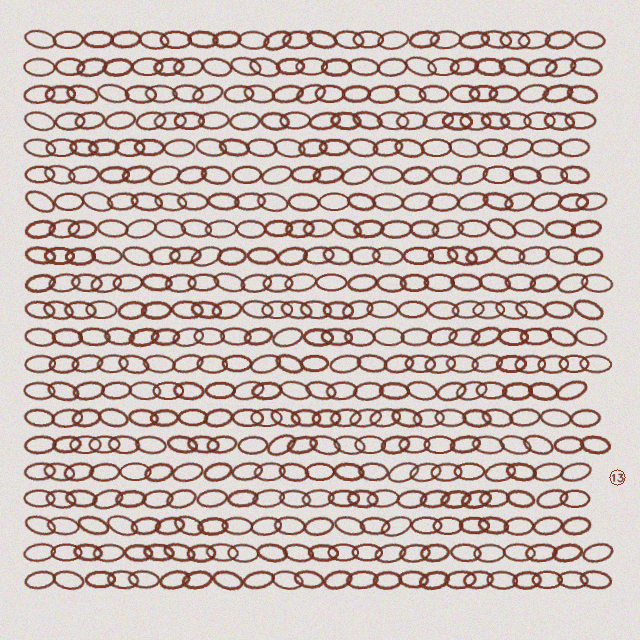chain: (21, 186, 59, 217), (263, 429, 300, 460), (553, 376, 590, 405), (104, 511, 141, 540), (484, 214, 520, 243), (570, 295, 606, 324), (188, 242, 225, 270), (385, 458, 422, 486), (378, 512, 415, 540), (544, 323, 580, 351), (402, 53, 439, 80), (454, 161, 491, 188), (79, 188, 116, 215), (260, 26, 295, 54), (272, 350, 307, 378), (293, 80, 329, 107), (329, 215, 365, 242), (444, 242, 480, 269), (211, 269, 247, 296), (468, 323, 504, 350), (520, 431, 556, 458), (22, 512, 58, 539), (75, 512, 111, 539), (171, 512, 207, 539), (247, 54, 283, 80), (190, 81, 226, 107), (147, 162, 183, 188), (259, 162, 295, 188), (493, 297, 529, 323), (45, 378, 81, 404), (307, 432, 343, 458), (497, 432, 533, 458), (558, 459, 594, 485), (543, 54, 578, 80), (22, 108, 57, 134), (500, 135, 535, 161), (339, 162, 374, 188), (120, 243, 155, 269), (555, 270, 590, 296), (270, 324, 305, 350), (248, 351, 283, 377), (434, 378, 469, 404), (268, 405, 303, 431), (90, 486, 125, 512), (332, 513, 367, 539), (210, 567, 245, 593), (22, 27, 58, 52), (95, 81, 131, 106), (455, 189, 491, 214), (170, 351, 206, 376), (230, 378, 266, 403), (277, 378, 313, 403), (534, 486, 570, 511), (161, 540, 197, 565), (304, 27, 339, 52), (228, 54, 263, 79), (516, 81, 551, 106), (540, 81, 575, 106), (350, 108, 385, 133), (42, 162, 77, 187), (480, 189, 515, 214), (502, 189, 537, 214), (529, 189, 564, 214), (123, 216, 158, 241), (463, 243, 498, 268), (340, 297, 375, 322), (425, 324, 460, 349), (303, 378, 338, 403), (404, 378, 439, 403), (454, 378, 489, 403), (96, 405, 131, 430), (389, 405, 424, 430), (164, 486, 199, 511), (580, 540, 615, 565), (157, 567, 192, 592), (64, 82, 100, 106), (513, 298, 549, 322), (201, 459, 235, 484), (321, 567, 355, 592), (74, 55, 109, 79), (270, 82, 305, 106), (393, 82, 428, 106), (307, 109, 342, 133), (22, 136, 57, 160), (272, 136, 307, 160), (392, 136, 427, 160), (447, 136, 482, 160), (255, 190, 290, 214), (41, 298, 76, 322), (279, 298, 314, 322), (126, 325, 161, 349), (116, 352, 151, 376), (328, 352, 363, 376), (348, 406, 383, 430), (480, 406, 515, 430), (332, 433, 367, 457), (170, 460, 205, 484), (408, 460, 443, 484), (531, 460, 566, 484), (373, 541, 408, 565), (51, 568, 86, 592), (241, 568, 276, 592), (270, 568, 305, 592), (200, 55, 234, 79), (242, 82, 276, 106), (565, 82, 599, 106), (175, 163, 209, 187), (199, 163, 233, 187), (23, 217, 57, 241), (569, 217, 603, 241), (275, 244, 309, 268), (23, 271, 57, 295), (89, 271, 123, 295), (171, 325, 205, 349), (285, 433, 319, 457), (42, 460, 76, 484), (142, 460, 176, 484), (277, 460, 311, 484), (483, 460, 517, 484), (418, 487, 452, 511), (459, 487, 493, 511), (153, 514, 187, 538), (302, 514, 336, 538), (281, 541, 315, 565), (23, 568, 57, 592), (417, 568, 451, 592), (129, 190, 164, 213), (400, 190, 435, 213), (574, 190, 609, 213), (544, 244, 579, 267), (47, 271, 82, 294), (283, 271, 318, 294), (477, 271, 512, 294), (240, 298, 275, 321), (70, 352, 105, 375), (71, 379, 106, 402), (251, 487, 286, 510), (22, 541, 57, 564), (578, 568, 613, 591), (345, 190, 378, 214), (504, 487, 537, 511), (332, 28, 366, 51), (407, 28, 441, 51), (479, 28, 513, 51), (497, 55, 531, 78), (73, 109, 107, 132), (103, 109, 137, 132), (134, 109, 168, 132), (421, 109, 455, 132), (194, 136, 228, 159), (217, 136, 251, 159), (346, 136, 380, 159), (371, 136, 405, 159), (120, 163, 154, 186), (47, 217, 81, 240), (153, 217, 187, 240), (179, 217, 213, 240), (23, 244, 57, 267), (321, 244, 355, 267), (493, 244, 527, 267), (517, 244, 551, 267), (210, 298, 244, 321), (355, 352, 389, 375), (382, 352, 416, 375), (470, 352, 504, 375), (368, 406, 402, 429), (165, 433, 199, 456), (205, 433, 239, 456), (448, 433, 482, 456), (578, 433, 612, 456), (62, 460, 96, 483), (230, 460, 264, 483), (504, 460, 538, 483), (195, 487, 229, 510), (476, 514, 510, 537), (531, 514, 565, 537), (255, 541, 289, 564), (550, 541, 584, 564), (180, 568, 214, 591), (292, 568, 326, 591), (22, 83, 57, 105), (153, 191, 188, 213), (543, 28, 576, 51), (448, 55, 481, 78), (242, 325, 275, 348), (70, 406, 103, 429), (202, 406, 235, 429), (379, 433, 412, 456), (560, 514, 593, 537), (137, 29, 171, 51), (376, 29, 410, 51), (457, 29, 491, 51), (517, 29, 551, 51), (347, 56, 381, 78), (366, 83, 400, 105), (542, 110, 576, 132), (311, 164, 345, 186), (429, 164, 463, 186), (508, 164, 542, 186), (431, 218, 465, 240), (239, 272, 273, 294), (580, 272, 614, 294), (23, 299, 57, 321), (189, 299, 223, 321), (23, 326, 57, 348), (142, 353, 176, 375), (423, 353, 457, 375), (526, 380, 560, 402), (50, 407, 84, 429), (471, 434, 505, 456), (44, 488, 78, 510), (278, 488, 312, 510), (395, 488, 429, 510), (46, 515, 80, 537), (129, 515, 163, 537), (249, 515, 283, 537), (573, 29, 606, 51), (101, 56, 134, 78), (376, 56, 409, 78), (525, 56, 558, 78), (479, 110, 512, 132), (400, 164, 433, 186), (572, 245, 605, 267), (346, 272, 379, 294), (528, 272, 561, 294), (116, 299, 149, 321), (542, 299, 575, 321), (352, 380, 385, 402), (23, 407, 56, 429), (127, 407, 160, 429), (539, 407, 572, 429), (134, 434, 167, 456), (141, 488, 174, 510), (439, 488, 472, 510), (398, 542, 431, 564), (569, 56, 603, 77), (376, 110, 410, 131), (557, 137, 591, 158), (176, 191, 210, 212), (206, 191, 240, 212), (233, 191, 267, 212), (168, 245, 202, 266), (449, 272, 483, 293), (170, 299, 204, 320), (299, 299, 333, 320), (451, 299, 485, 320), (77, 326, 111, 347), (574, 326, 608, 347), (128, 380, 162, 401), (508, 407, 542, 428), (23, 434, 57, 455), (107, 434, 141, 455), (186, 434, 220, 455), (23, 461, 57, 482), (64, 488, 98, 509), (301, 488, 335, 509), (366, 488, 400, 509), (205, 542, 239, 563), (502, 542, 536, 563), (524, 542, 558, 563), (106, 569, 140, 590), (127, 569, 161, 590), (345, 569, 379, 590), (443, 569, 477, 590), (259, 110, 291, 132), (68, 137, 100, 159), (461, 407, 493, 429), (109, 29, 142, 50), (186, 29, 219, 50), (281, 29, 314, 50), (429, 29, 462, 50), (152, 56, 185, 77), (172, 56, 205, 77), (473, 56, 506, 77), (171, 83, 204, 104), (197, 110, 230, 131), (329, 110, 362, 131), (395, 110, 428, 131), (87, 137, 120, 158), (245, 137, 278, 158), (67, 164, 100, 185), (106, 191, 139, 212), (96, 218, 129, 239), (302, 218, 335, 239), (352, 218, 385, 239), (512, 218, 545, 239), (90, 245, 123, 266), (148, 245, 181, 266), (302, 245, 335, 266), (348, 245, 381, 266), (70, 272, 103, 293), (140, 272, 173, 293), (103, 326, 136, 347), (219, 326, 252, 347), (372, 326, 405, 347), (96, 353, 129, 374), (100, 380, 133, 401), (172, 380, 205, 401), (250, 380, 283, 401), (325, 380, 358, 401), (329, 407, 362, 428), (253, 461, 286, 482), (332, 461, 365, 482), (357, 461, 390, 482), (226, 488, 259, 509), (346, 488, 379, 509), (478, 488, 511, 509), (273, 515, 306, 536), (142, 542, 175, 563), (449, 542, 482, 563), (397, 569, 430, 590), (462, 569, 495, 590), (144, 84, 178, 104), (153, 111, 187, 131), (371, 192, 405, 212), (204, 219, 238, 239), (379, 219, 413, 239), (63, 300, 97, 320), (445, 354, 479, 374), (92, 543, 126, 563), (211, 29, 243, 50), (297, 137, 329, 158), (559, 164, 591, 185), (284, 218, 316, 239), (51, 434, 83, 455), (72, 542, 104, 563), (419, 542, 451, 563), (237, 30, 270, 50), (23, 57, 56, 77), (124, 84, 157, 104), (228, 111, 261, 131), (459, 111, 492, 131), (499, 111, 532, 131), (163, 138, 196, 158), (371, 165, 404, 185), (287, 192, 320, 212), (427, 192, 460, 212), (371, 246, 404, 266), (164, 273, 197, 293), (375, 273, 408, 293), (427, 300, 460, 320), (472, 300, 505, 320), (320, 327, 353, 347), (343, 327, 376, 347), (448, 327, 481, 347), (579, 354, 612, 374), (23, 381, 56, 401), (412, 408, 445, 428), (434, 408, 467, 428), (569, 408, 602, 428), (88, 462, 121, 482), (430, 462, 463, 482), (114, 489, 147, 509), (196, 516, 229, 536), (473, 543, 506, 563), (556, 570, 589, 590), (499, 30, 531, 50), (320, 57, 352, 77), (44, 84, 76, 104), (223, 84, 255, 104), (418, 84, 450, 104), (488, 84, 520, 104), (54, 111, 86, 131), (441, 111, 473, 131), (530, 138, 562, 158), (98, 165, 130, 185), (536, 165, 568, 185), (557, 192, 589, 212), (235, 219, 267, 239), (544, 219, 576, 239), (64, 246, 96, 266), (216, 246, 248, 266), (246, 246, 278, 266), (112, 273, 144, 293), (262, 273, 294, 293), (140, 300, 172, 320), (322, 300, 354, 320), (51, 327, 83, 347), (302, 327, 334, 347), (400, 327, 432, 347), (24, 354, 56, 374), (48, 354, 80, 374), (196, 354, 228, 374), (514, 354, 546, 374), (537, 354, 569, 374), (378, 381, 410, 401), (501, 381, 533, 401), (290, 408, 322, 428), (237, 435, 269, 455), (553, 435, 585, 455), (221, 516, 253, 536), (359, 516, 391, 536), (503, 516, 535, 536), (227, 543, 259, 563), (307, 543, 339, 563), (486, 570, 518, 590), (511, 570, 543, 590), (159, 30, 192, 49), (131, 57, 164, 76), (295, 57, 328, 76), (427, 57, 460, 76), (523, 111, 556, 130), (564, 111, 597, 130), (45, 138, 78, 157), (457, 219, 490, 238), (187, 273, 220, 292), (315, 273, 348, 292), (85, 300, 118, 319), (366, 300, 399, 319), (519, 327, 552, 346), (475, 381, 508, 400), (231, 408, 264, 427), (250, 408, 283, 427), (69, 435, 102, 454), (88, 435, 121, 454), (398, 435, 431, 454), (423, 435, 456, 454), (119, 462, 152, 481), (453, 462, 486, 481), (23, 489, 56, 508), (327, 489, 360, 508), (410, 516, 443, 535), (50, 543, 83, 562), (341, 84, 372, 104), (67, 219, 98, 239), (409, 219, 440, 239), (150, 327, 181, 347), (149, 408, 180, 428), (311, 408, 342, 428), (123, 543, 154, 563), (186, 543, 217, 563), (372, 570, 403, 590), (52, 30, 84, 49), (82, 30, 114, 49), (352, 30, 384, 49), (54, 57, 86, 76), (314, 84, 346, 103), (449, 84, 481, 103), (173, 111, 205, 130), (279, 111, 311, 130), (114, 138, 146, 157), (133, 138, 165, 157), (318, 138, 350, 157), (420, 138, 452, 157), (476, 138, 508, 157), (24, 165, 56, 184), (231, 165, 263, 184), (290, 165, 322, 184), (482, 165, 514, 184), (53, 192, 85, 211), (318, 192, 350, 211), (43, 246, 75, 265), (402, 246, 434, 265), (427, 246, 459, 265), (423, 273, 455, 292), (504, 273, 536, 292), (261, 300, 293, 319), (397, 300, 429, 319), (193, 327, 225, 346), (497, 327, 529, 346), (221, 354, 253, 373), (404, 354, 436, 373), (495, 354, 527, 373), (558, 354, 590, 373), (152, 381, 184, 400), (204, 381, 236, 400), (177, 408, 209, 427), (354, 435, 386, 454), (304, 462, 336, 481), (559, 489, 591, 508), (432, 516, 464, 535), (458, 516, 490, 535), (327, 543, 359, 562), (351, 543, 383, 562), (84, 570, 116, 589), (531, 570, 563, 589), (275, 57, 306, 76), (468, 84, 499, 103), (263, 219, 294, 238), (399, 273, 430, 292), (299, 354, 330, 373)
noise: (607, 467, 627, 487)
